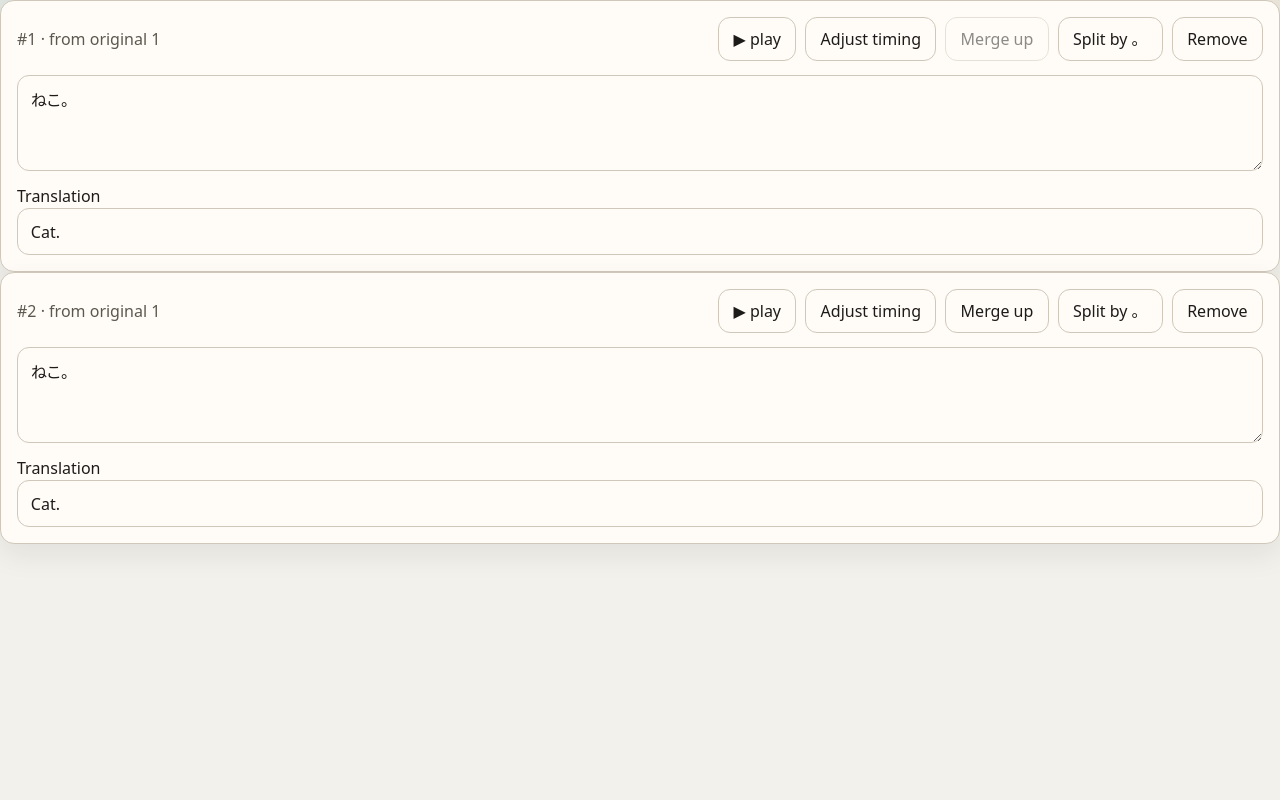
SegmentationEditor › lets the first row drag its start toward 0 and plays the live selection
Click the 1st button "Adjust timing" at (871, 39), box [805,17,936,61]
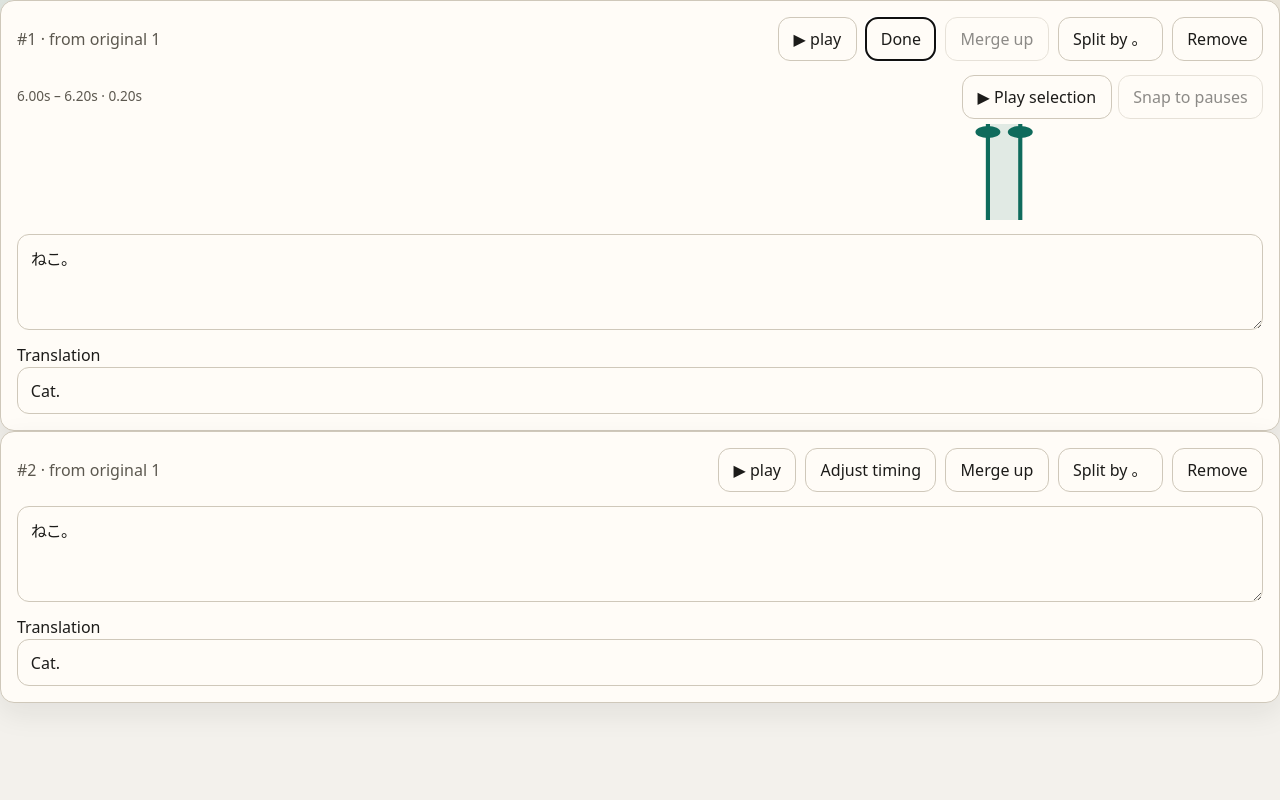
Expected: the picture named "sentence waveform" is shown, [17,124,1263,220]
Expected: the button "▶ Play selection" is shown, [962,75,1112,119]
